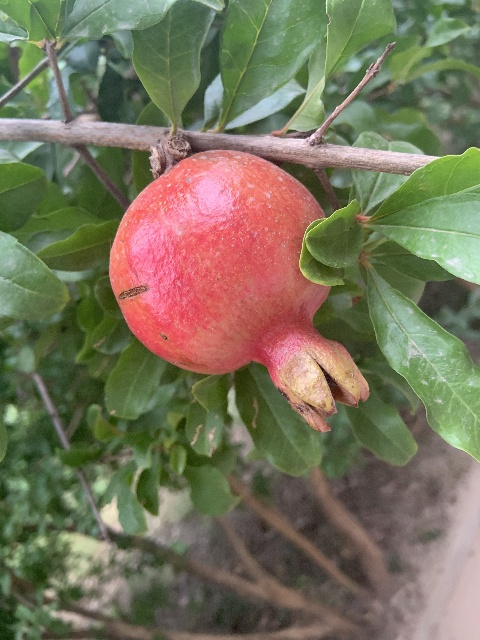ripe: (109, 147, 368, 429)
